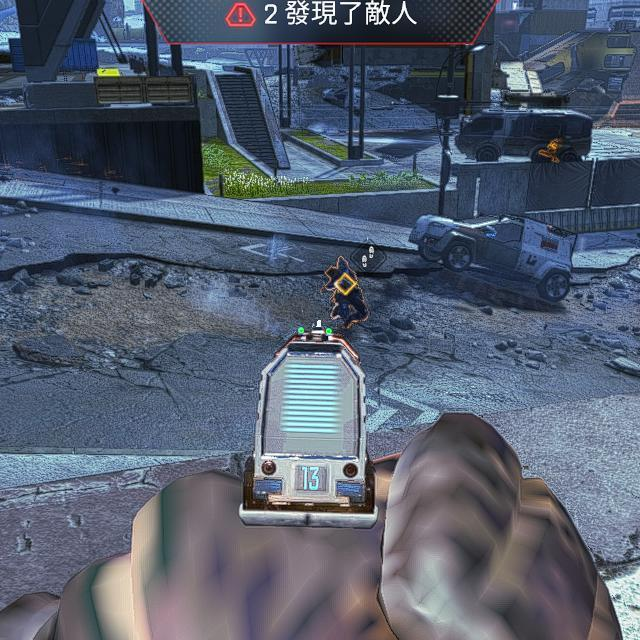avatar: (324, 256, 369, 328)
object: (333, 272, 358, 296)
